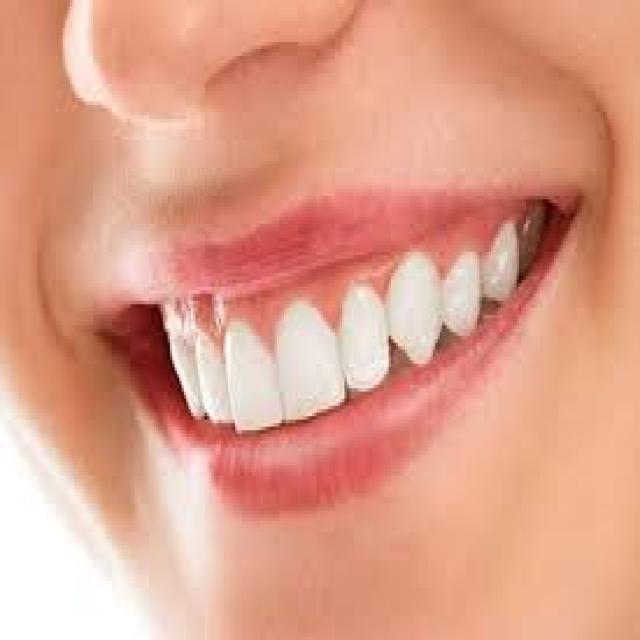tooth: (274, 311, 338, 406), (224, 325, 282, 427), (386, 262, 440, 360), (339, 301, 388, 381), (440, 238, 479, 325), (193, 315, 224, 416), (170, 311, 198, 402), (482, 224, 514, 294)
